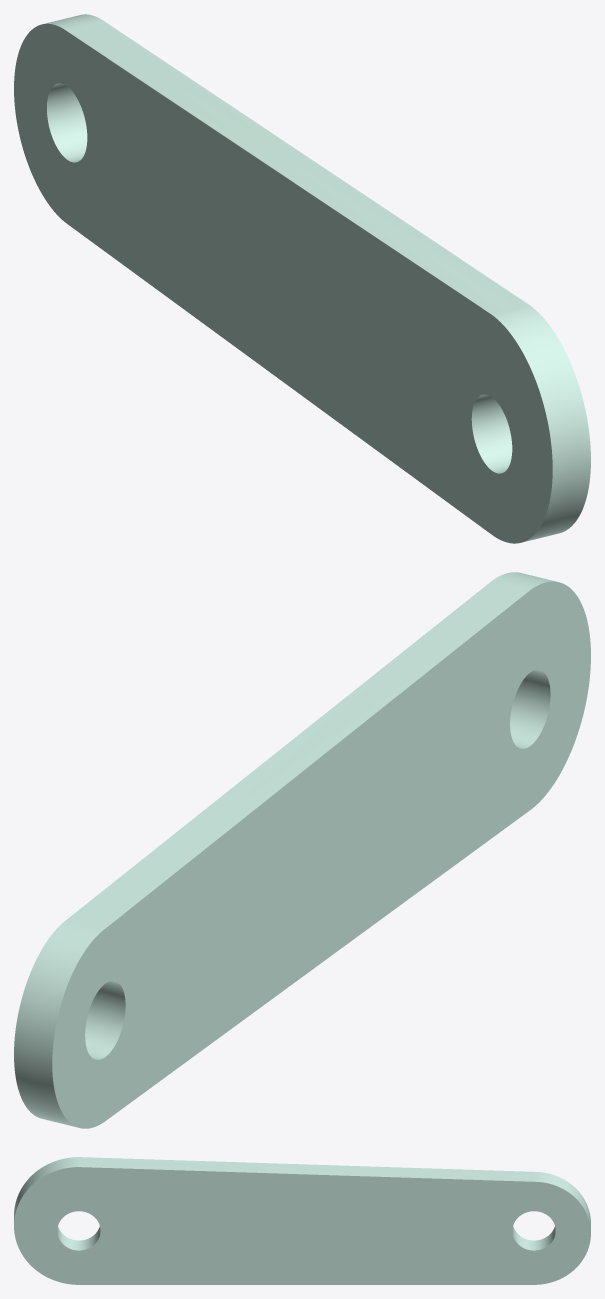
The picture shows the model from 3 angles, top to bottom: view 1: azimuth 30°, elevation 25°; view 2: azimuth 150°, elevation 25°; view 3: azimuth 270°, elevation 25°; orthographic projection. The views are drawn at different scales.
Visible parts, largest first — view 1: Renderer Node; view 2: Renderer Node; view 3: Renderer Node.
Part boxes in pixels (x1=…): Renderer Node: x1=14, y1=14, x2=590, y2=543; Renderer Node: x1=14, y1=572, x2=590, y2=1128; Renderer Node: x1=14, y1=1157, x2=590, y2=1284.
Bounding box in the file's own units: 0.0625 × 0.3434 × 1.52.
